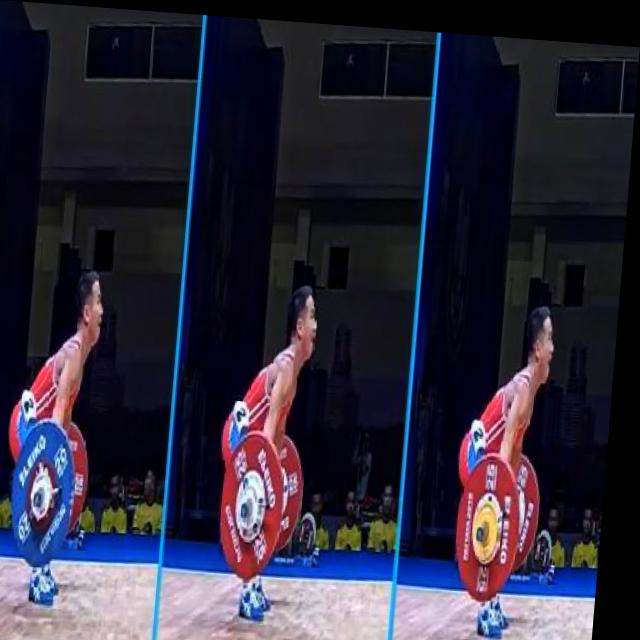barbell: (11, 413, 94, 572), (220, 424, 302, 582), (455, 443, 537, 601)
